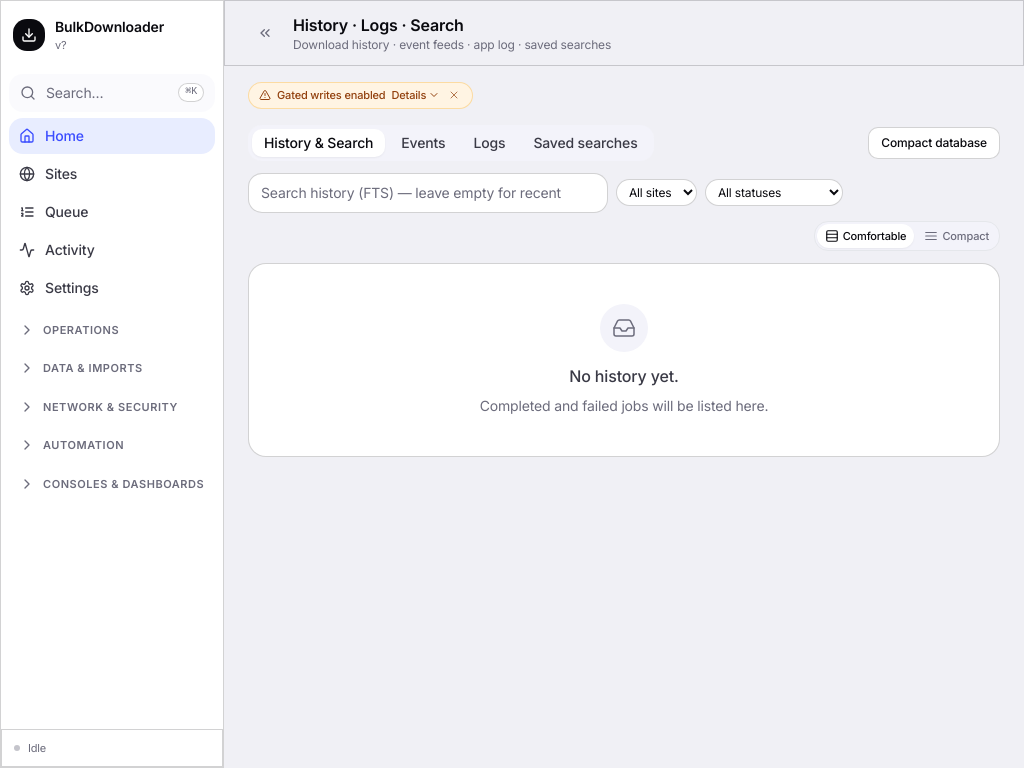
F7 History tabs and Sites › F7 Events tab: failed reads are errors, not 'No events yet.'
The image size is (1024, 768).
Click the tab "Events" at (423,142), box [389,128,457,156]
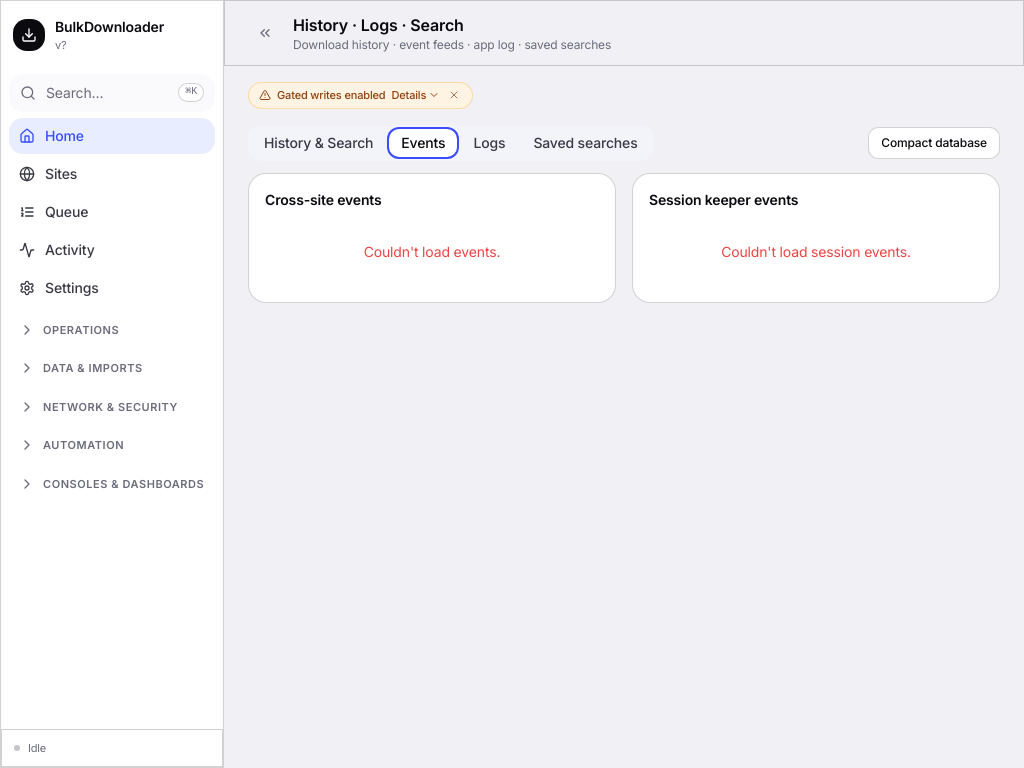
Expected: the text "Couldn't load events." is shown, [364,242,500,260]
Expected: the text "Couldn't load session events." is shown, [721,242,911,260]
